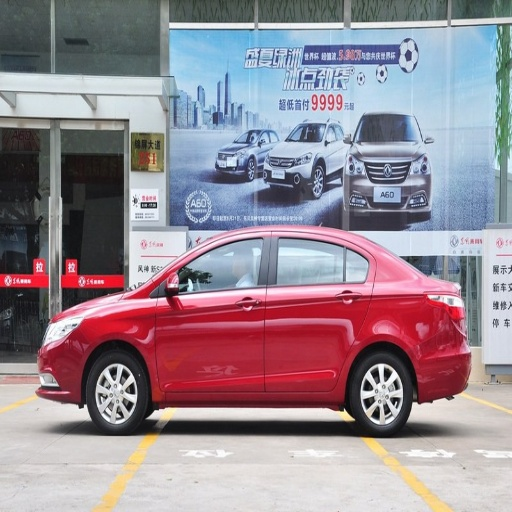back_left_door: (266, 233, 372, 390)
front_left_door: (156, 234, 270, 392)
